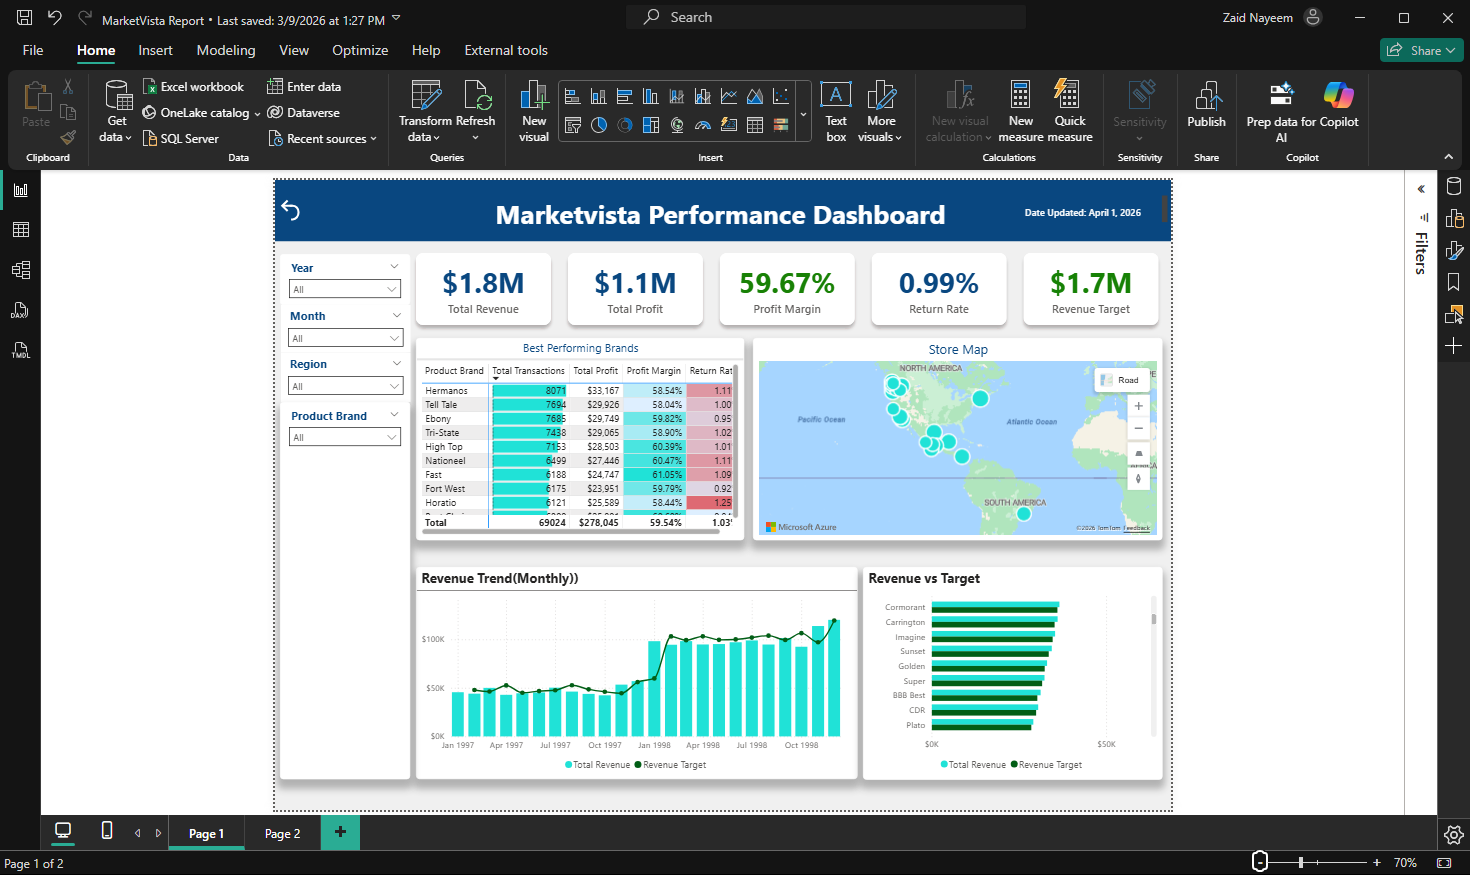

Layout of this report page (visuals, bound fields, positions):
{"tool":"powerbi","page":{"name":"Page 1","canvas":[1280,900],"ordinal":0},"visuals":[{"type":"shape","box":[0,0,1280,87.5],"z":0},{"type":"textbox","box":[0,17.5,1280,52.5],"z":1000},{"type":"cardVisual","fields":{"Data":["Measures Table.Total Revenue","Measures Table.Total Profit","Measures Table.Profit Margin","Measures Table.Return Rate","Measures Table.Revenue Target"]},"box":[183.8,87.5,1096.2,137.5],"z":2000},{"type":"pivotTable","title":"Best Performing Brands","fields":{"Rows":["Products Table.product_brand"],"Values":["Measures Table.Total Transactions","Measures Table.Total Profit","Measures Table.Profit Margin","Measures Table.Return Rate"]},"box":[201.2,225,468.8,288.8],"z":3000},{"type":"azureMap","title":"Store Map","fields":{"Category":["Stores table.store_city"],"Size":["Measures Table.Total Revenue"]},"box":[682.5,225,585,288.8],"z":4000},{"type":"lineClusteredColumnComboChart","title":"Revenue Trend(Monthly))","fields":{"Category":["Calendar table.Start of Month"],"Y":["Measures Table.Total Revenue"],"Y2":["Measures Table.Revenue Target"]},"box":[201.1,552.2,631.1,303.3],"z":5000},{"type":"clusteredBarChart","title":"Revenue vs Target","fields":{"Category":["Products Table.product_brand"],"Y":["Measures Table.Total Revenue","Measures Table.Revenue Target"]},"box":[840,552.5,427.5,303.8],"z":6000},{"type":"slicer","fields":{"Values":["Calendar table.Year"]},"box":[7.8,105.6,185.6,73.3],"z":6001},{"type":"slicer","fields":{"Values":["Calendar table.Start of Month"]},"box":[8,179,185,68],"z":6002},{"type":"slicer","fields":{"Values":["Regions Table.sales_region"]},"box":[8,247,185,70],"z":6003},{"type":"slicer","fields":{"Values":["Products Table.product_brand"]},"box":[7.8,316.7,185.6,538.9],"z":6004},{"type":"actionButton","box":[0,23.3,44.4,40],"z":6005},{"type":"cardVisual","fields":{"Data":["Measures Table.Last Updated"]},"box":[1041.1,3.3,238.9,84.4],"z":6006}]}

Visuals, with their boxes on the page's 1280x900 design canvas (x1, y1, x2, y2). These are canvas units, not pixel positions in the 1470x875 screenshot, which may show the page scaled, cropped or inside an application window:
shape: {"left": 0, "top": 0, "right": 1280, "bottom": 88}
textbox: {"left": 0, "top": 18, "right": 1280, "bottom": 70}
cardVisual - Measures Table.Total Revenue x Measures Table.Total Profit: {"left": 184, "top": 88, "right": 1280, "bottom": 225}
"Best Performing Brands" pivotTable: {"left": 201, "top": 225, "right": 670, "bottom": 514}
"Store Map" azureMap: {"left": 682, "top": 225, "right": 1268, "bottom": 514}
"Revenue Trend(Monthly))" lineClusteredColumnComboChart: {"left": 201, "top": 552, "right": 832, "bottom": 856}
"Revenue vs Target" clusteredBarChart: {"left": 840, "top": 552, "right": 1268, "bottom": 856}
slicer - Calendar table.Year: {"left": 8, "top": 106, "right": 193, "bottom": 179}
slicer - Calendar table.Start of Month: {"left": 8, "top": 179, "right": 193, "bottom": 247}
slicer - Regions Table.sales_region: {"left": 8, "top": 247, "right": 193, "bottom": 317}
slicer - Products Table.product_brand: {"left": 8, "top": 317, "right": 193, "bottom": 856}
actionButton: {"left": 0, "top": 23, "right": 44, "bottom": 63}
cardVisual - Measures Table.Last Updated: {"left": 1041, "top": 3, "right": 1280, "bottom": 88}
